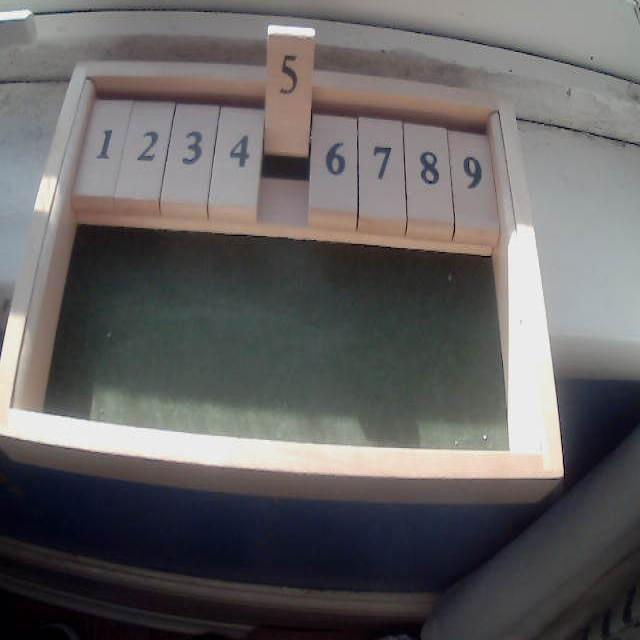C1: (72, 62, 136, 214)
C2: (117, 62, 177, 220)
C3: (163, 62, 220, 224)
C4: (211, 64, 262, 226)
C6: (312, 72, 356, 231)
C7: (358, 76, 404, 238)
C8: (406, 82, 452, 244)
C9: (451, 87, 499, 245)
O5: (265, 26, 314, 227)
